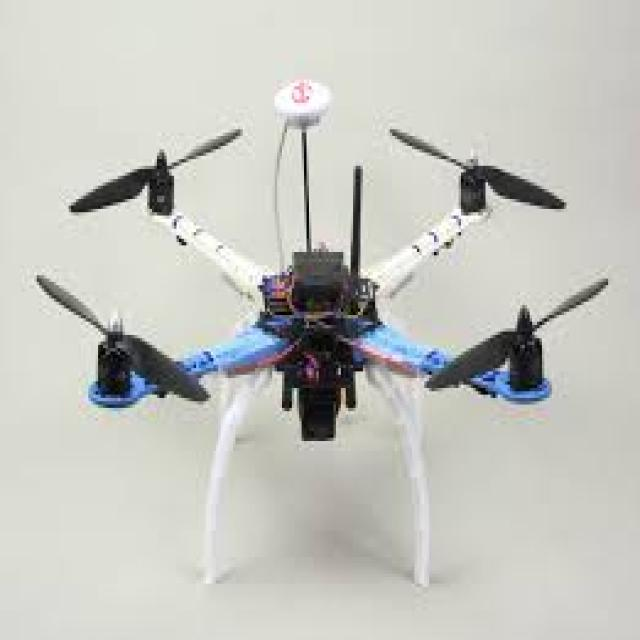drone: (0, 60, 640, 518)
